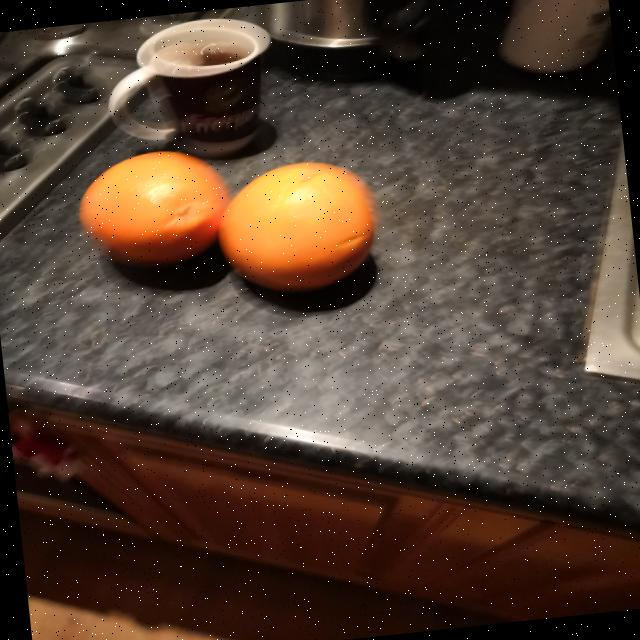orange: (217, 162, 376, 291), (79, 151, 230, 265)
